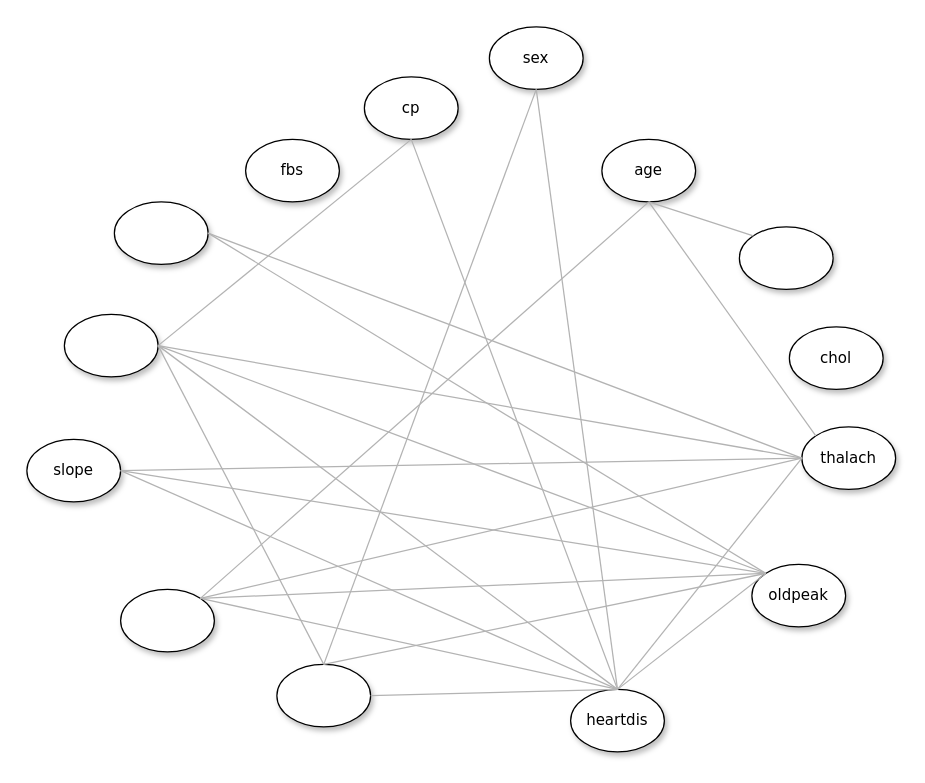
This 925x783 diagram has some shape labels left out. The shapes that lost their labels are listed below. From the top down, each one's centre as x and y in pixels, then its label:
(x=162, y=234): restecg
(x=787, y=259): trestbps
(x=112, y=347): exang
(x=168, y=622): ca
(x=324, y=697): thal
